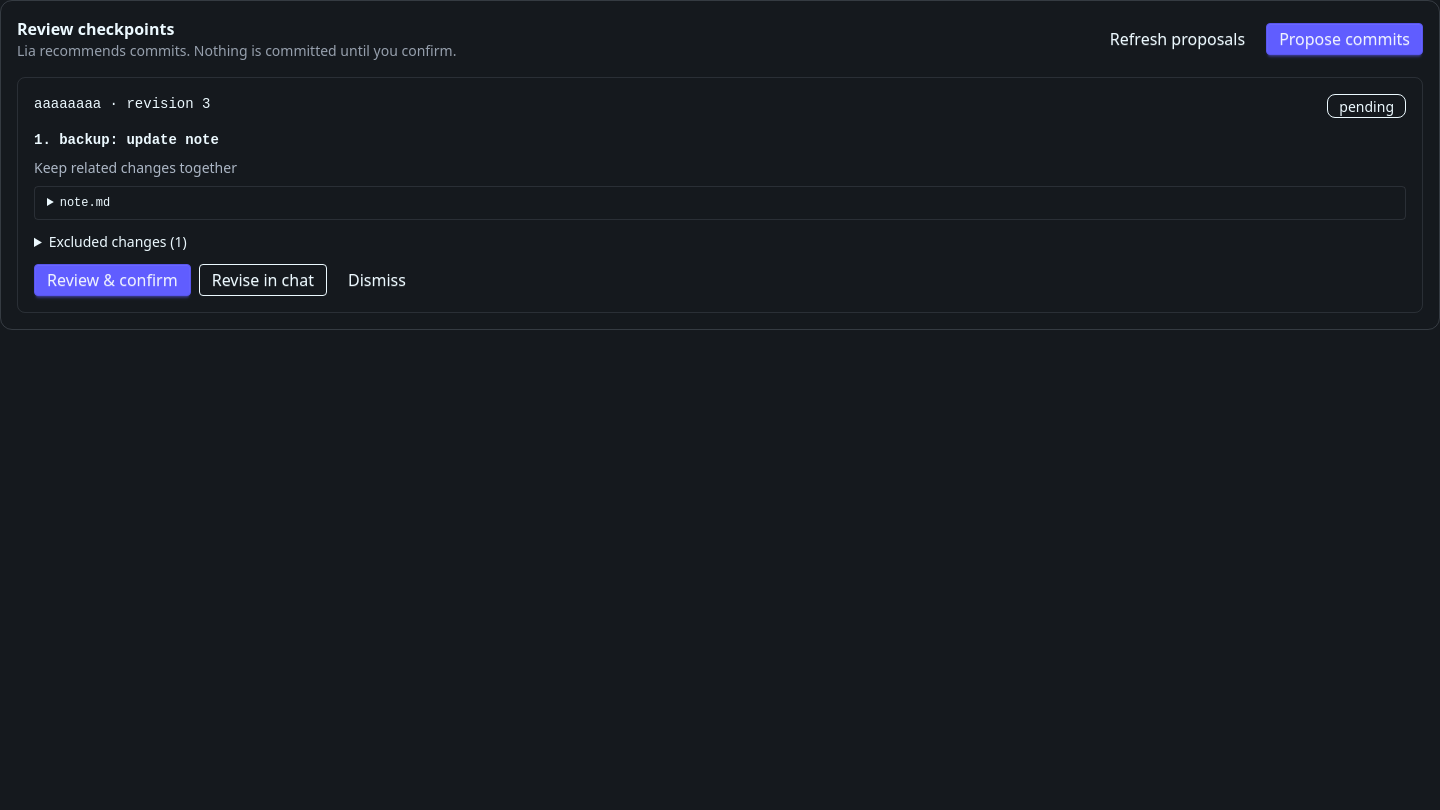
Scenario: shows stale errors without automatically approving another revision
Click the button "Review & confirm" at (112, 280), box x1=34 y1=264 x2=191 y2=296
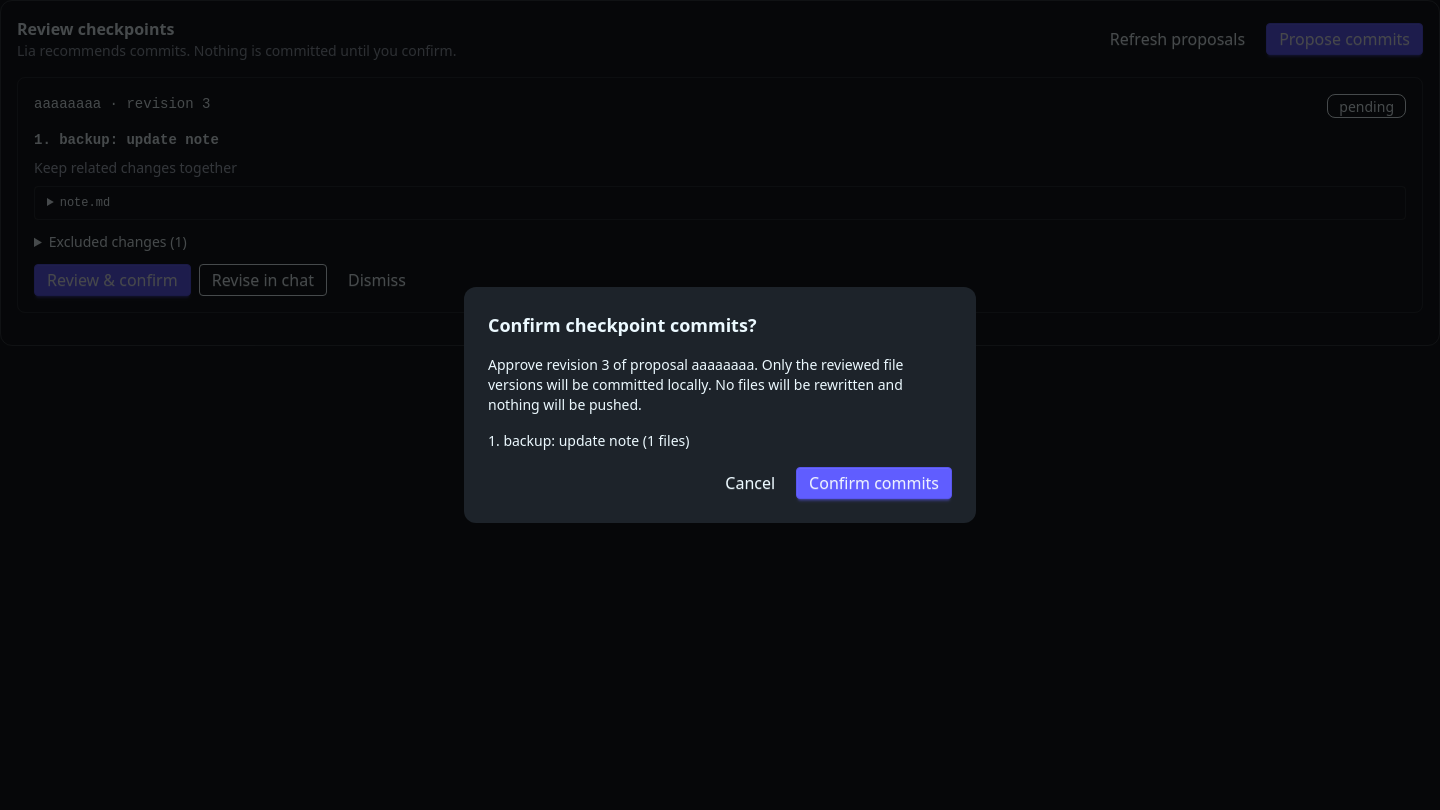
Click the button "Confirm commits" at (874, 483), box x1=796 y1=467 x2=952 y2=499
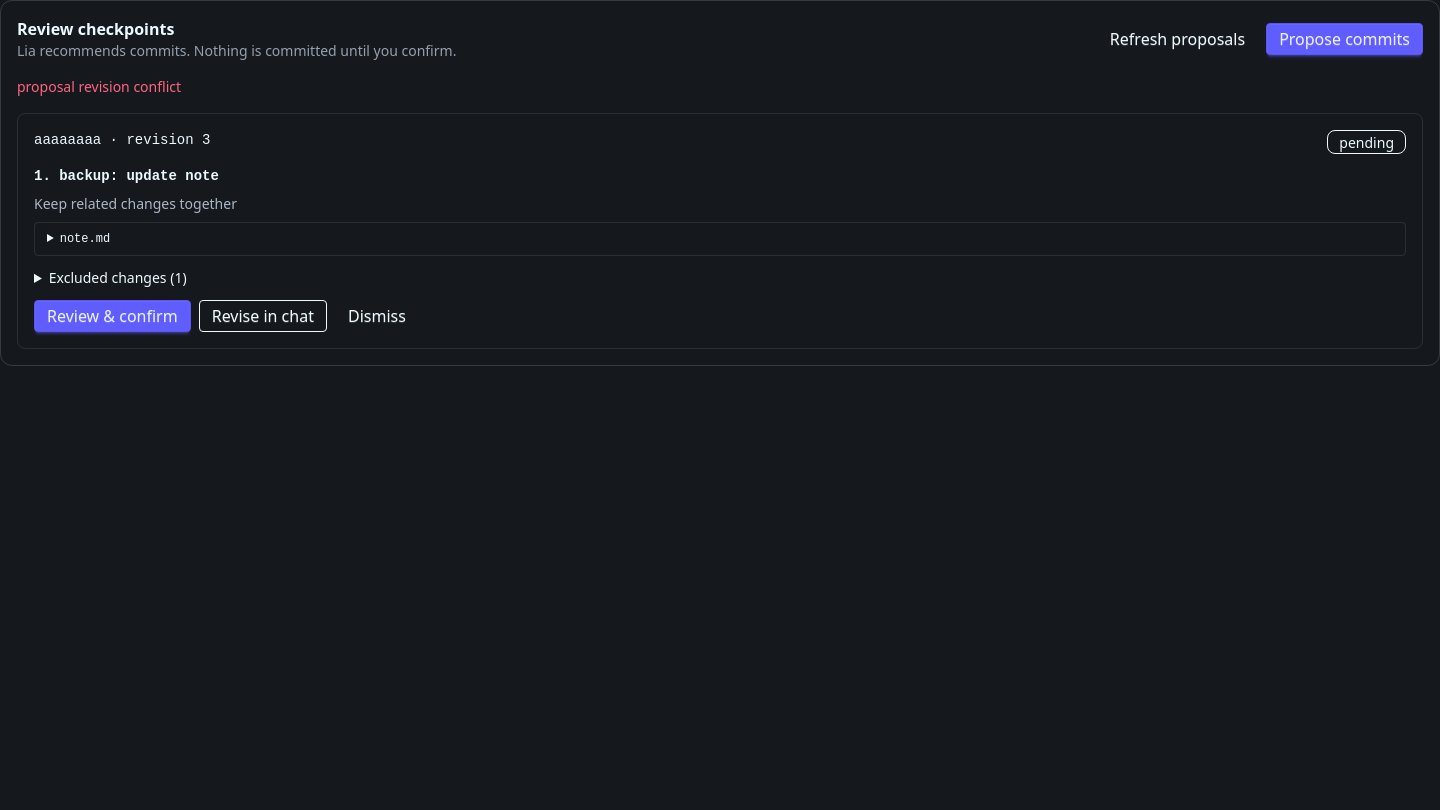
Expected: the message reads "proposal revision conflict", x1=17 y1=77 x2=181 y2=96
